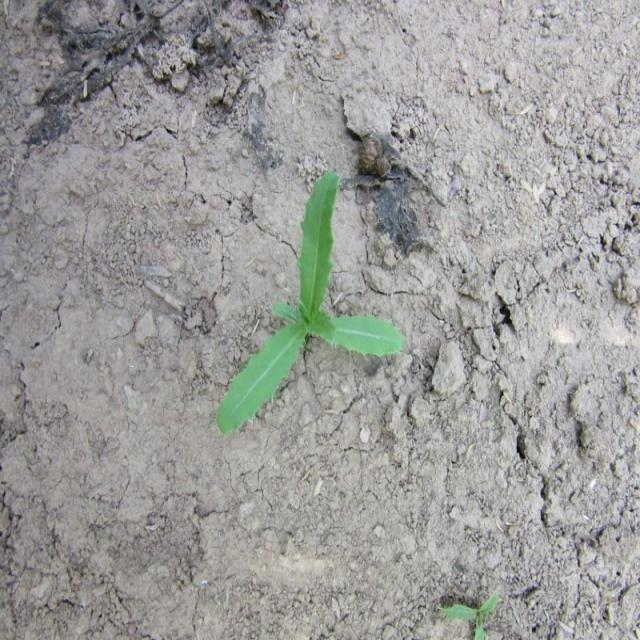field_thistle: (213, 158, 405, 450)
